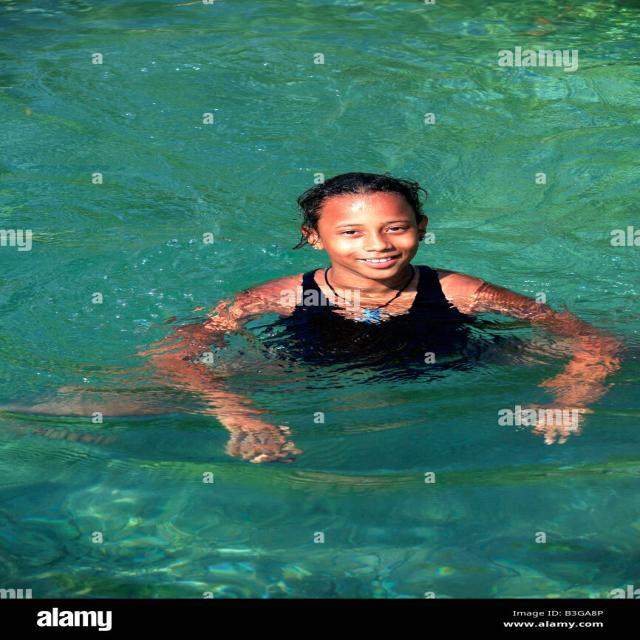Swimming: (286, 165, 468, 358)
